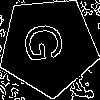G: (23, 21, 72, 64)
